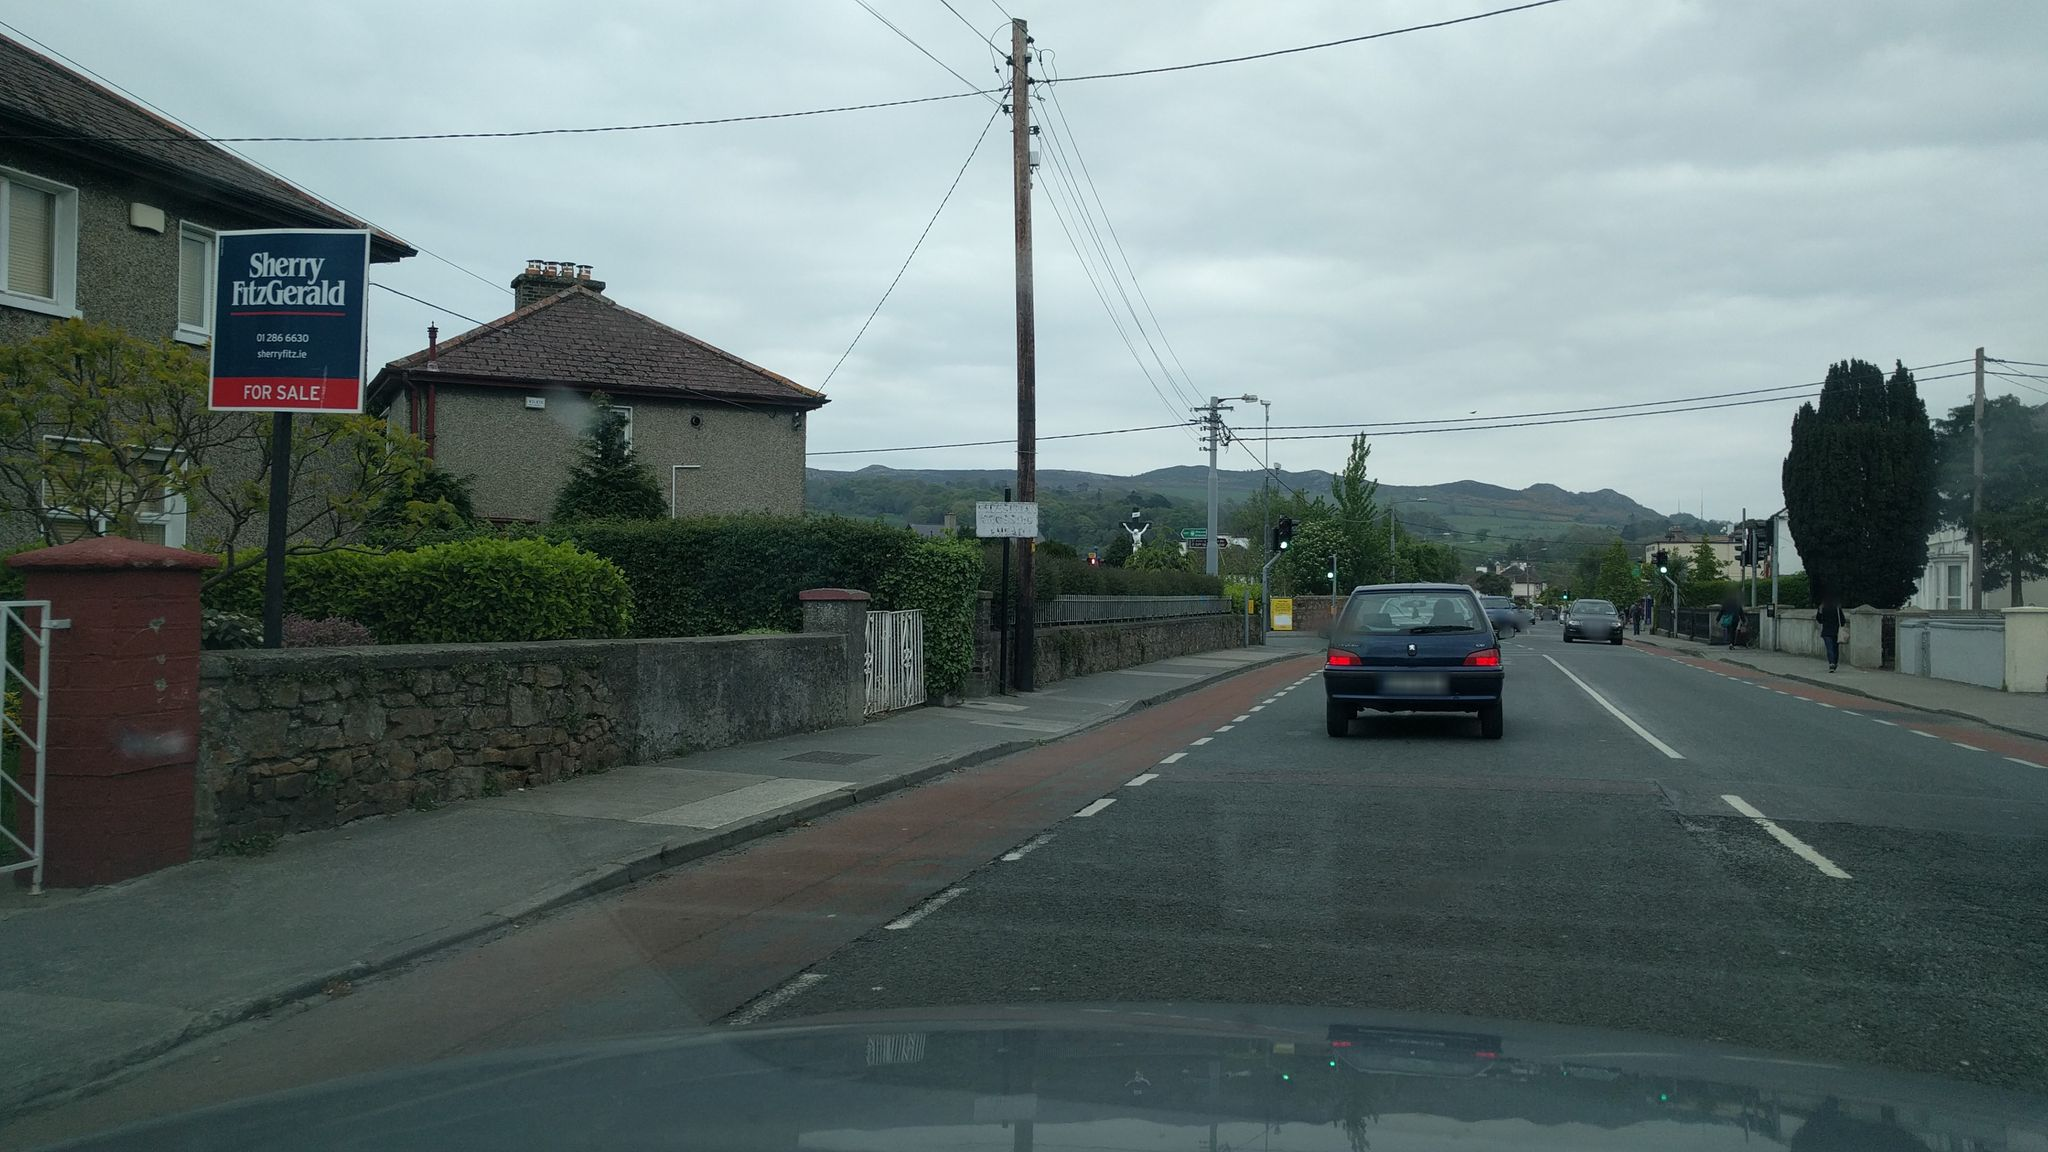property sign: (191, 191, 388, 428)
